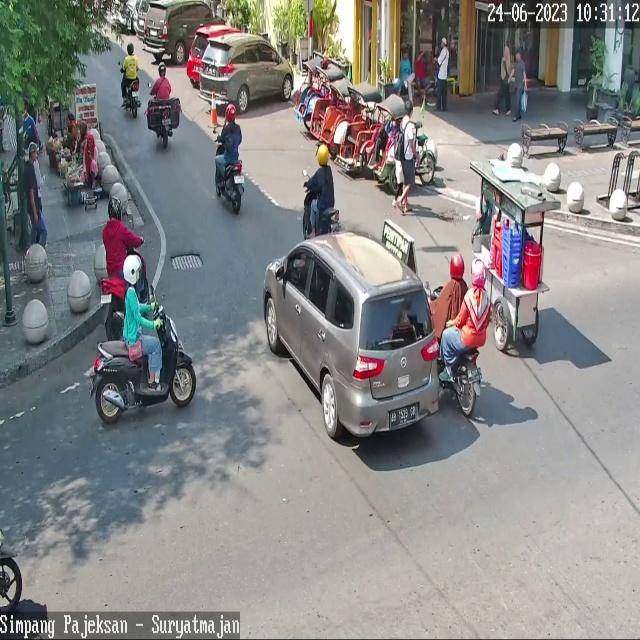bus: (94, 304, 196, 422), (430, 286, 482, 417), (302, 176, 340, 237), (216, 133, 245, 212), (101, 275, 124, 340), (158, 107, 175, 149), (124, 80, 142, 118)
motorcycle: (263, 230, 439, 437), (200, 33, 294, 113), (144, 0, 225, 64), (186, 24, 243, 80)
